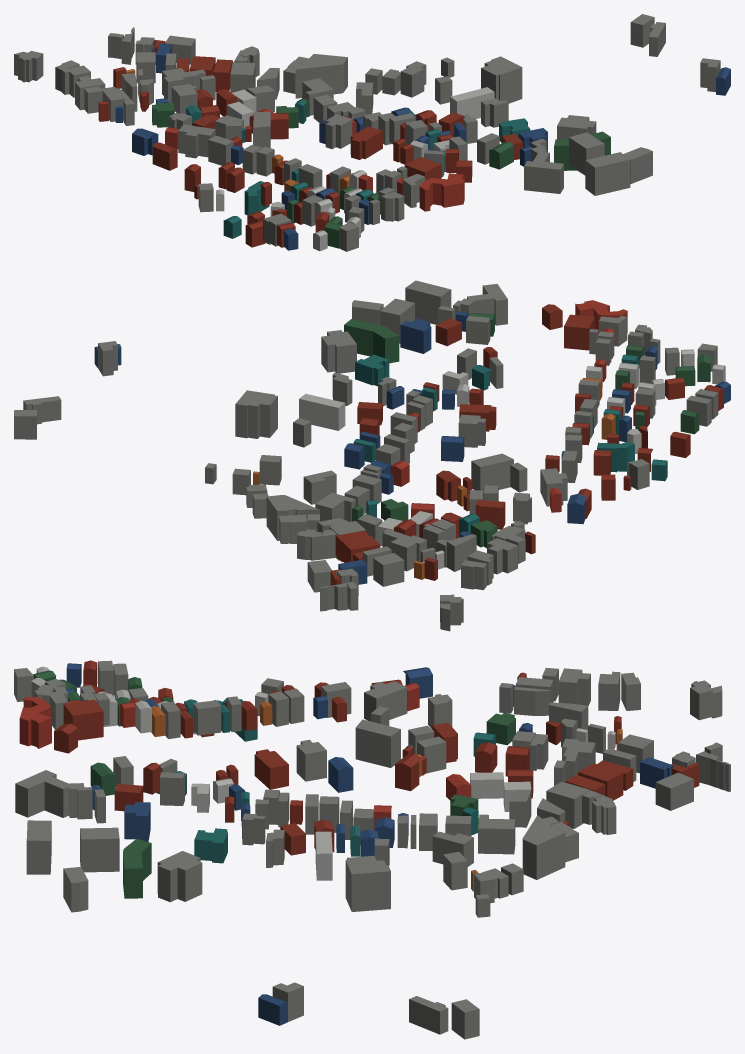
File: near-16-54721-29739.f04c464e.glb
3 views of the same model, one above another, from view 1: azimuth 30°, elevation 25°; view 2: azimuth 150°, elevation 25°; view 3: azimuth 270°, elevation 25° (orthographic). The views are drawn at different scales.
Bounding box in the file's own units: 611 × 97.22 × 589.
